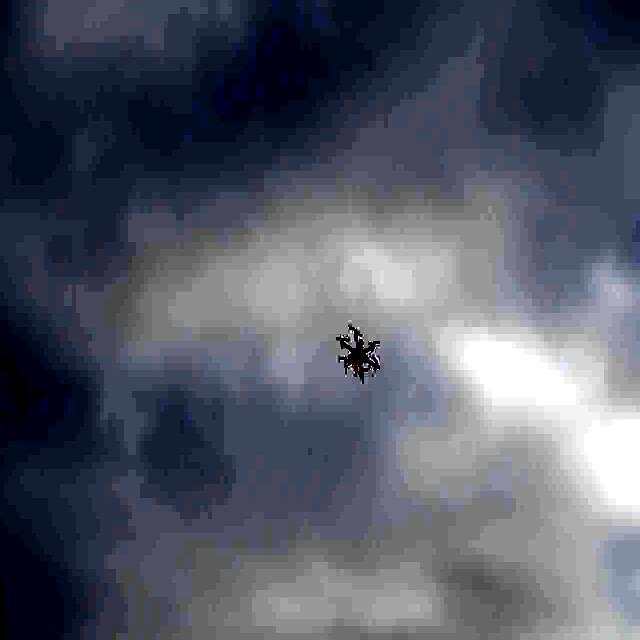drone: (336, 328, 382, 384)
